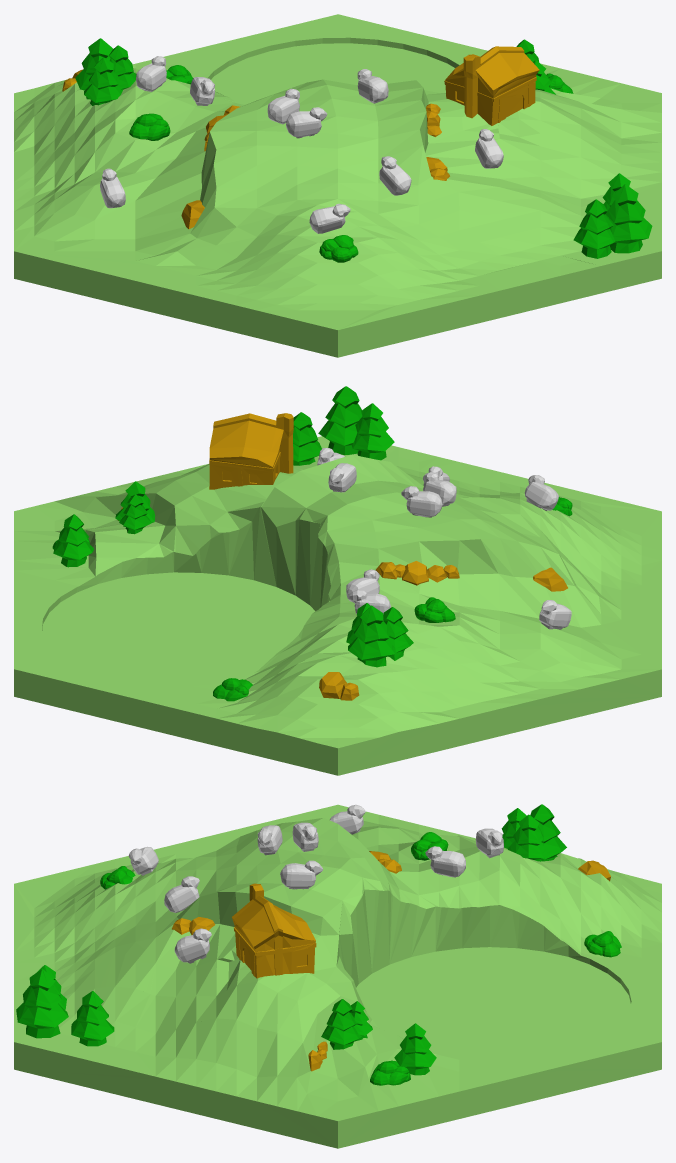
The model's file is wool.glb.
The picture shows the model from 3 angles, top to bottom: view 1: azimuth 30°, elevation 25°; view 2: azimuth 150°, elevation 25°; view 3: azimuth 270°, elevation 25°; orthographic projection.
Parts seen in each view (by area): view 1: wool; view 2: wool; view 3: wool.
Boxes of the visible parts, x1,y1,x2,y2 form: wool: (14, 14, 661, 357); wool: (14, 386, 661, 775); wool: (14, 804, 661, 1148).
Size of the model in its own units: 74 by 16.43 by 64.03.
